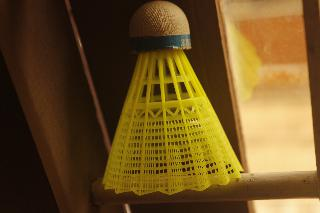shuttlecock: (102, 1, 244, 194)
